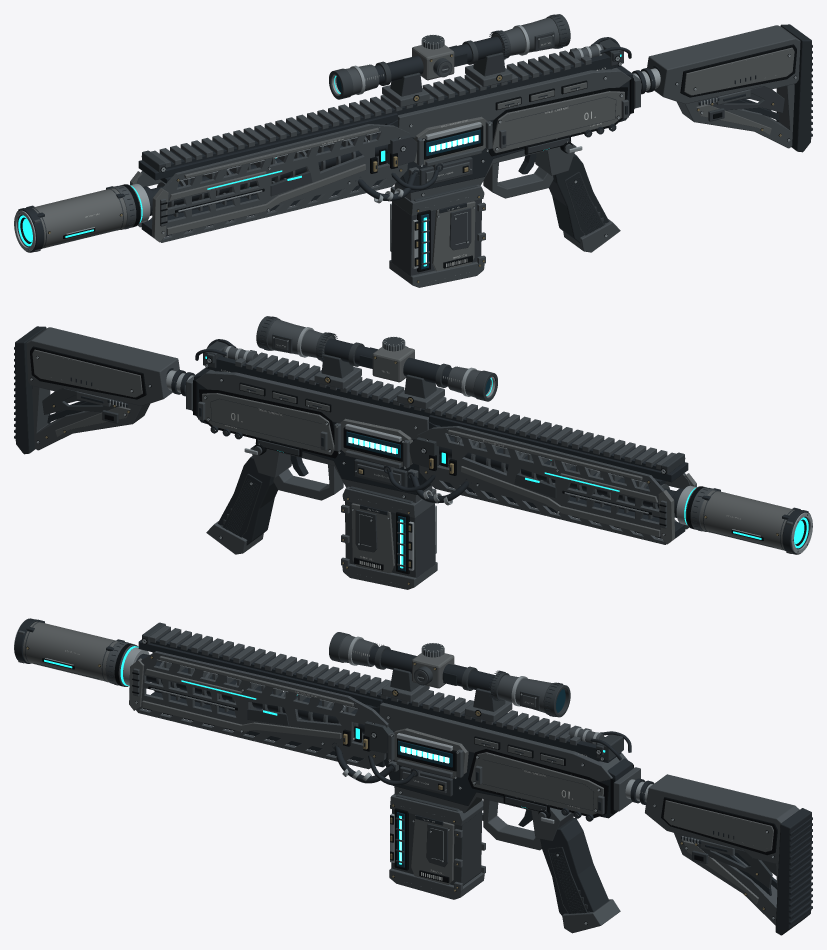
Rendered from TYPE01_LASER_RIFLE.glb.
3 renders of one model, top to bottom at view 1: azimuth 30°, elevation 25°; view 2: azimuth 150°, elevation 25°; view 3: azimuth 330°, elevation 25°, orthographic.
Parts seen in each view (by area): view 1: TYPE01_RECEIVER_MESH, TYPE01_HANDGUARD_MESH, TYPE01_ADJUSTABLE_STOCK_MESH, TYPE01_OPTIC_MESH, TYPE01_REMOVABLE_ENERGY_CELL_MESH, TYPE01_EMITTER_MESH, TYPE01_GRIP_AND_CONTROLS_MESH; view 2: TYPE01_RECEIVER_MESH, TYPE01_HANDGUARD_MESH, TYPE01_ADJUSTABLE_STOCK_MESH, TYPE01_OPTIC_MESH, TYPE01_REMOVABLE_ENERGY_CELL_MESH, TYPE01_EMITTER_MESH, TYPE01_GRIP_AND_CONTROLS_MESH; view 3: TYPE01_RECEIVER_MESH, TYPE01_HANDGUARD_MESH, TYPE01_ADJUSTABLE_STOCK_MESH, TYPE01_OPTIC_MESH, TYPE01_REMOVABLE_ENERGY_CELL_MESH, TYPE01_GRIP_AND_CONTROLS_MESH, TYPE01_EMITTER_MESH.
Boxes of the visible parts, box(x1,y1,x2,y2) form: TYPE01_RECEIVER_MESH: box(141, 37, 640, 203); TYPE01_HANDGUARD_MESH: box(130, 113, 410, 242); TYPE01_ADJUSTABLE_STOCK_MESH: box(632, 24, 812, 152); TYPE01_OPTIC_MESH: box(329, 14, 570, 107); TYPE01_REMOVABLE_ENERGY_CELL_MESH: box(389, 184, 485, 287); TYPE01_EMITTER_MESH: box(14, 183, 153, 252); TYPE01_GRIP_AND_CONTROLS_MESH: box(483, 141, 620, 252); TYPE01_RECEIVER_MESH: box(186, 339, 685, 505); TYPE01_HANDGUARD_MESH: box(416, 415, 696, 544); TYPE01_ADJUSTABLE_STOCK_MESH: box(14, 326, 194, 454); TYPE01_OPTIC_MESH: box(256, 316, 497, 409); TYPE01_REMOVABLE_ENERGY_CELL_MESH: box(341, 486, 437, 589); TYPE01_EMITTER_MESH: box(673, 485, 812, 554); TYPE01_GRIP_AND_CONTROLS_MESH: box(206, 442, 343, 554); TYPE01_RECEIVER_MESH: box(141, 622, 640, 840); TYPE01_HANDGUARD_MESH: box(129, 639, 388, 769); TYPE01_ADJUSTABLE_STOCK_MESH: box(625, 774, 812, 935); TYPE01_OPTIC_MESH: box(329, 632, 570, 722); TYPE01_REMOVABLE_ENERGY_CELL_MESH: box(389, 794, 485, 899); TYPE01_GRIP_AND_CONTROLS_MESH: box(483, 799, 620, 933); TYPE01_EMITTER_MESH: box(14, 618, 149, 686).
Bounding box in the file's own units: 0.8926 × 0.2662 × 0.0719.
